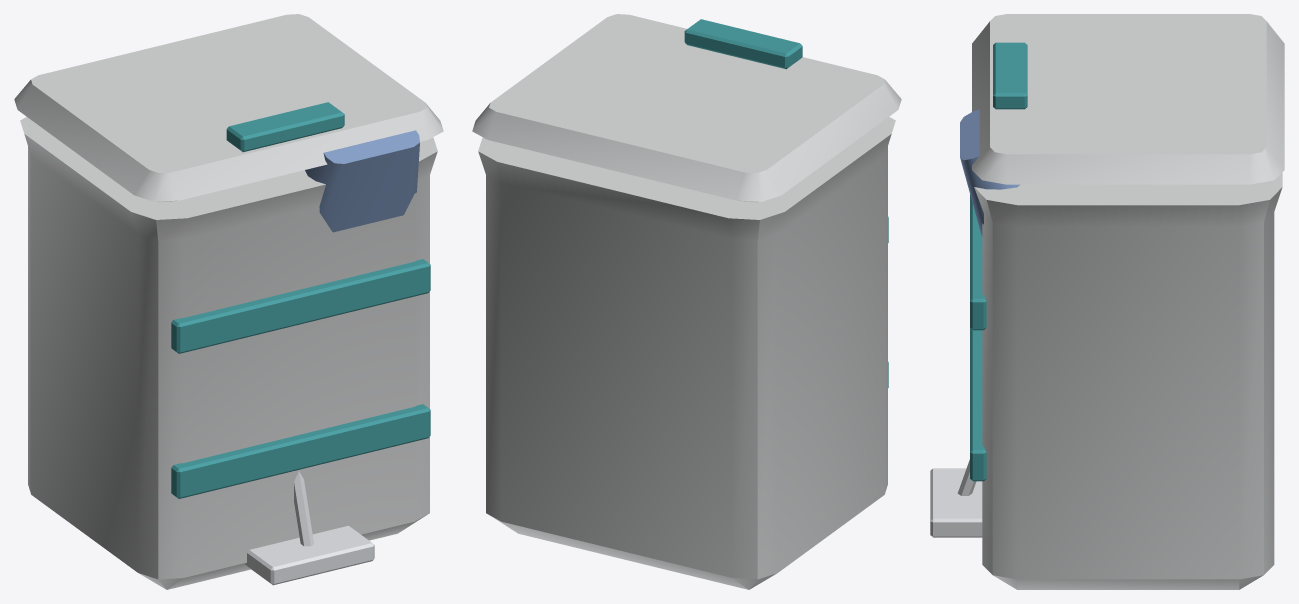
File: dry-cleaners-and-alterations-shop-offcut-bin-8c1bd846__34979.glb
3 views of the same model, side by side, from view 1: azimuth 30°, elevation 25°; view 2: azimuth 150°, elevation 25°; view 3: azimuth 270°, elevation 25° (orthographic). The views are drawn at different scales.
Visible parts, largest first — view 1: offcut-bin, bin-lid/panel, bin-lid/accent; view 2: offcut-bin, bin-lid/panel, bin-lid/accent; view 3: offcut-bin, bin-lid/panel, bin-lid/accent.
Part boxes in pixels (box(x1,y1,x2,y2)): offcut-bin: box(20, 117, 437, 589); bin-lid/panel: box(14, 14, 443, 202); bin-lid/accent: box(226, 102, 344, 152); offcut-bin: box(478, 117, 895, 589); bin-lid/panel: box(472, 14, 901, 202); bin-lid/accent: box(684, 19, 802, 69); offcut-bin: box(930, 109, 1282, 589); bin-lid/panel: box(972, 14, 1284, 184); bin-lid/accent: box(993, 42, 1027, 109).
Size of the model in its own units: 0.53 by 0.736 by 0.51.
